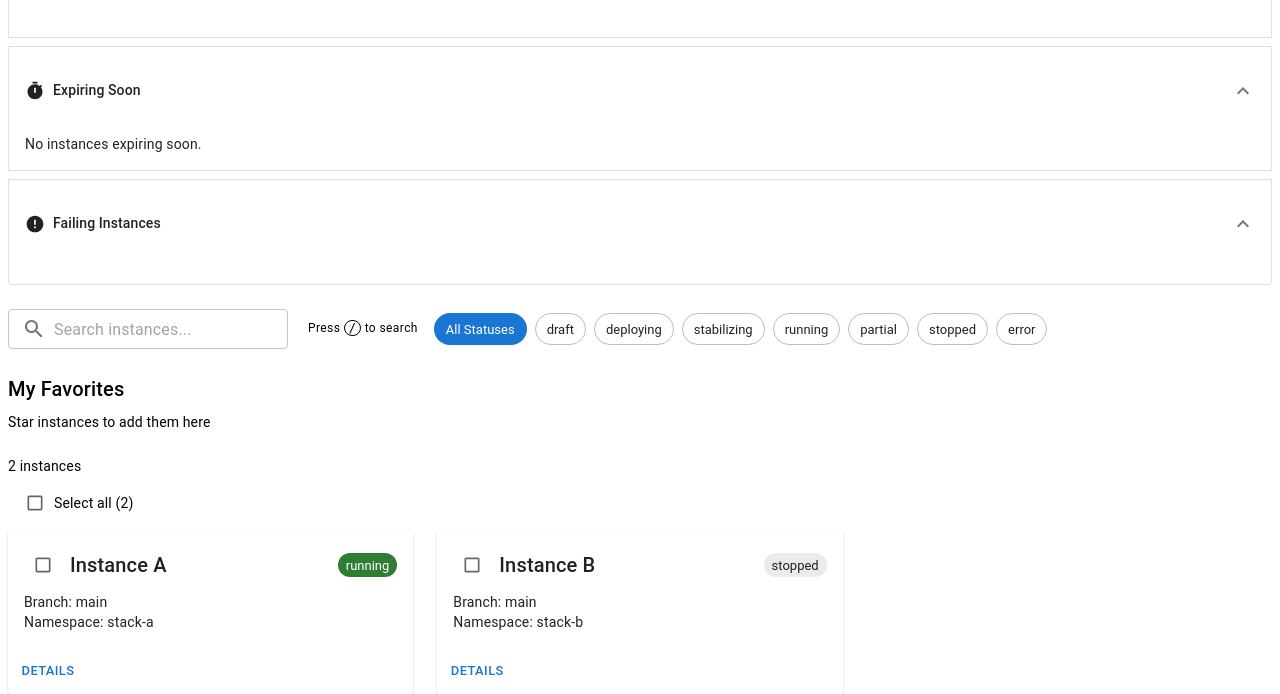
Scenario: Dashboard › Bulk Operations › shows confirm dialog before bulk deploy
(page scrolled)
Expected: the heading "Instance A" is shown, [70, 549, 167, 581]
Click the checkbox named "Select Instance A" at coordinates (43, 565), box [33, 555, 53, 575]
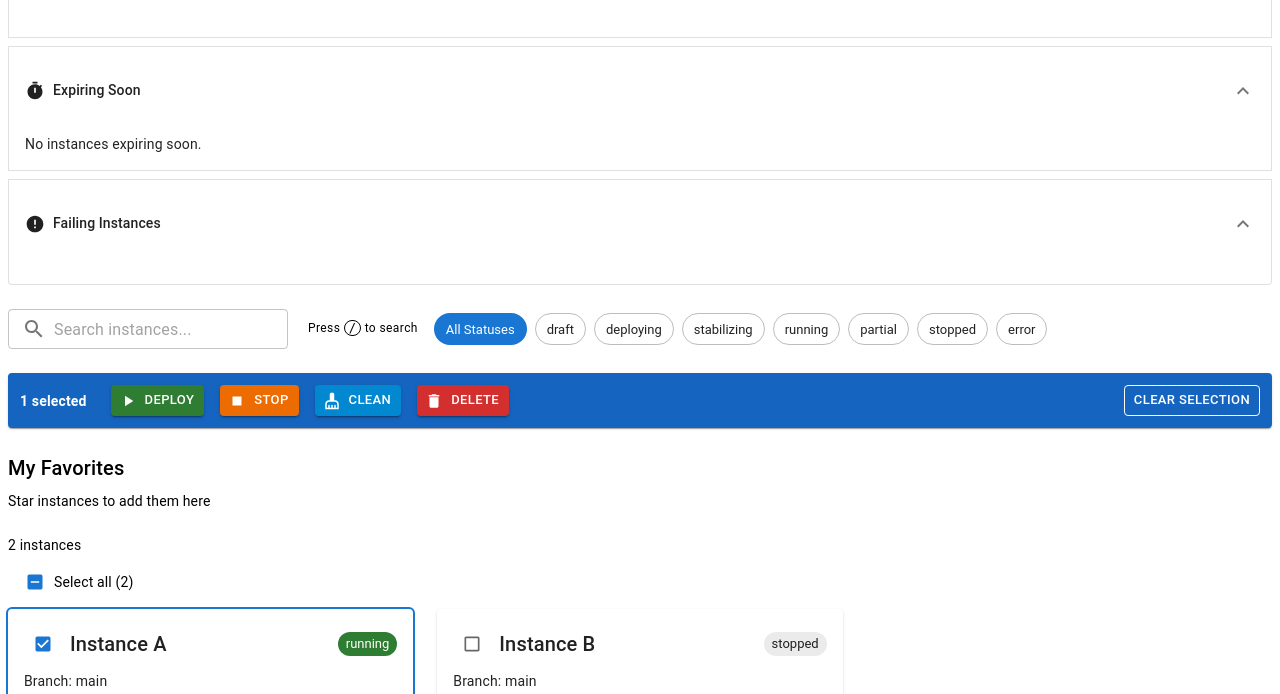
Click the button "Deploy" at coordinates (157, 401), box [111, 385, 204, 416]
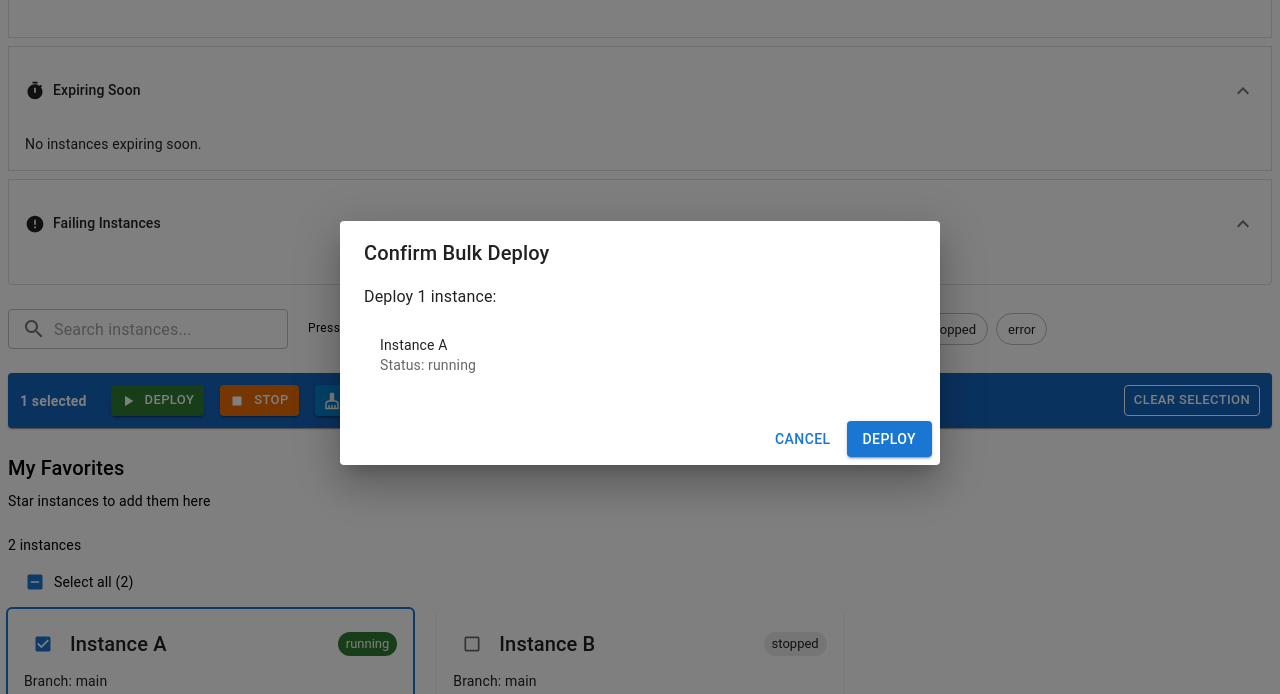
Expected: the heading "Confirm Bulk Deploy" is shown, [364, 241, 550, 265]
